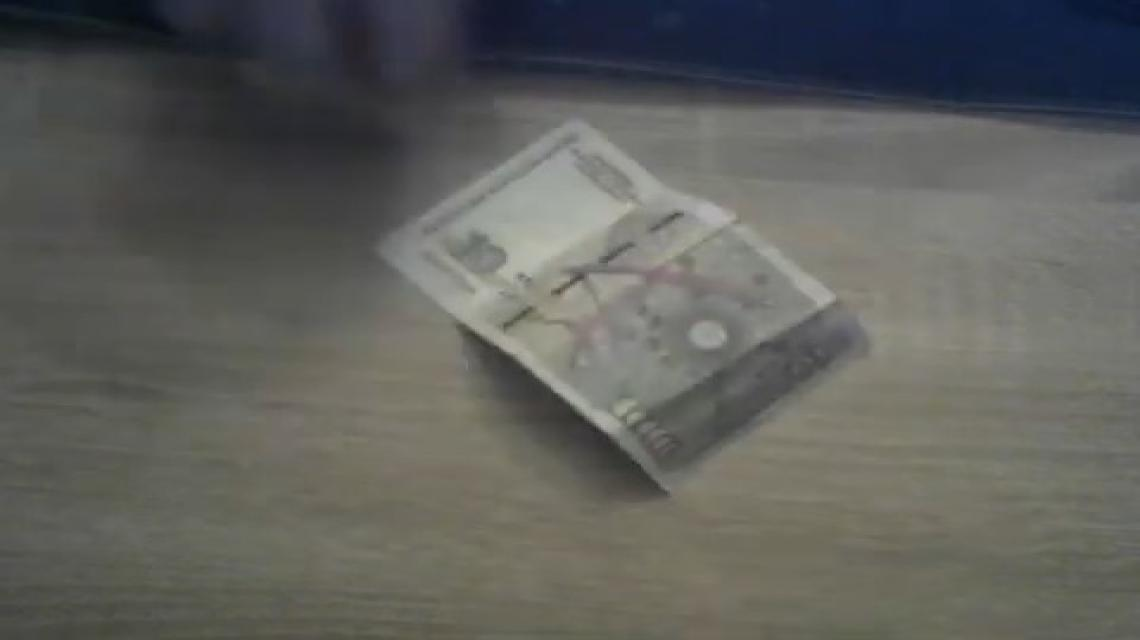10leva: (411, 220, 535, 308)
